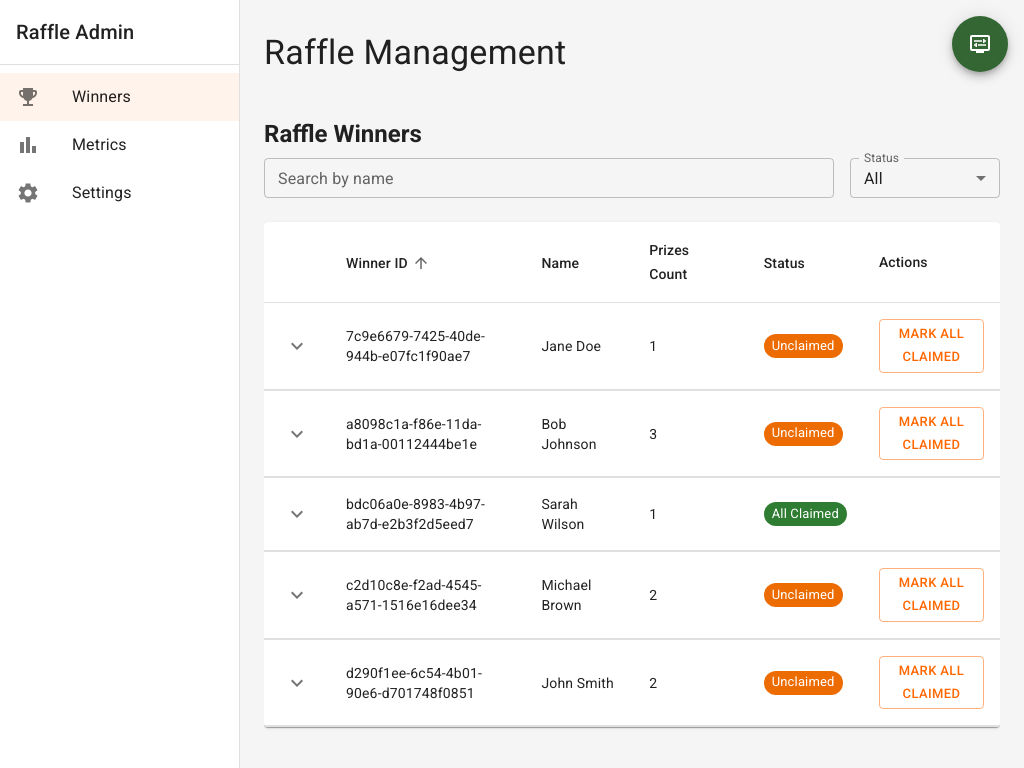
Raffle Admin Page › should display the metrics dashboard section
This screenshot has width=1024, height=768.
Click the text "Metrics".
click(100, 145)  # box 72,135 -> 127,154
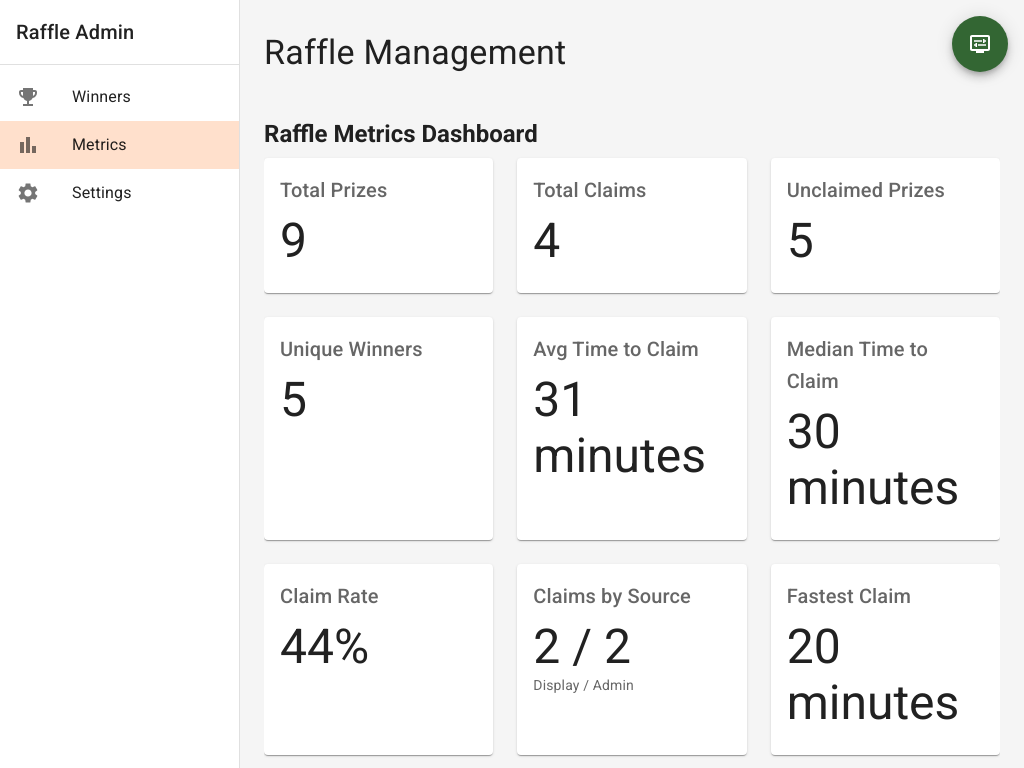
Result: the heading "Raffle Metrics Dashboard" is shown at 264,120 -> 538,148
